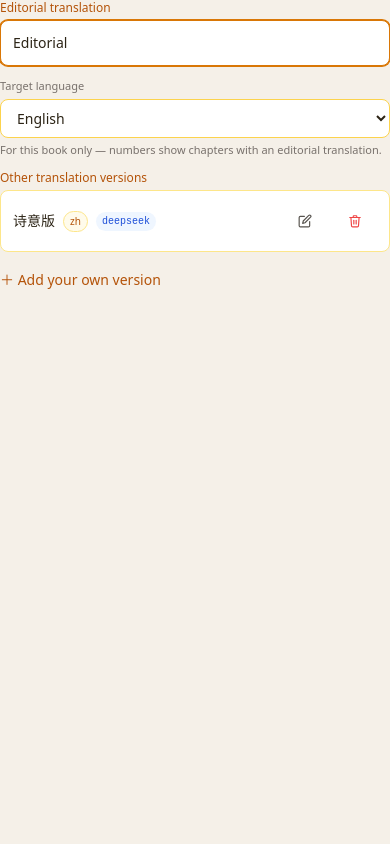
Scenario: duplicate-name error from the API is shown
Click the button "＋ Add your own version". click: [80, 280]
box: [0,258,161,302]
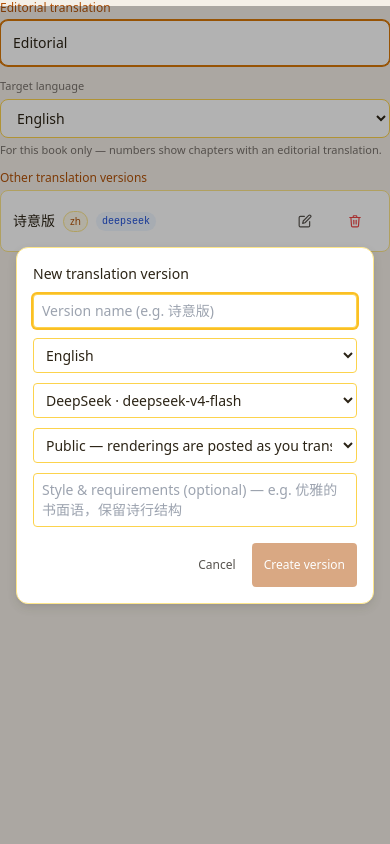
Type "诗意版" into the field labelled "Version name". click: [195, 310]
box: [33,294,357,328]
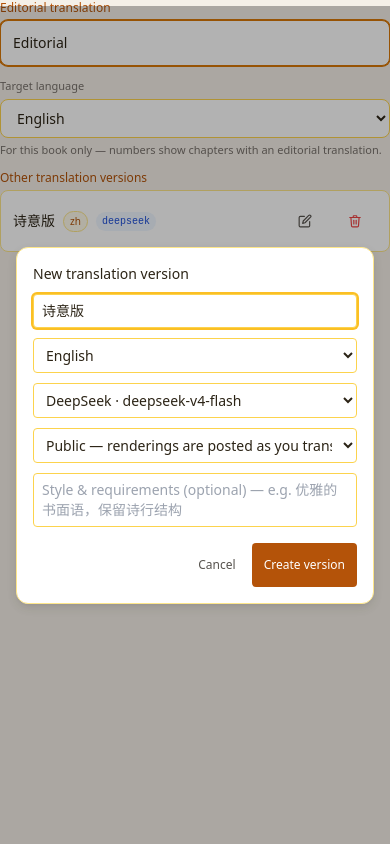
Click the button "Create version". click: [304, 564]
box: [252,542,357,586]
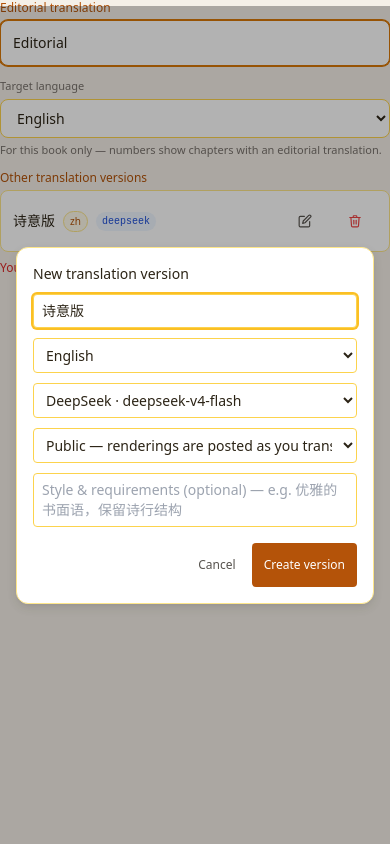
Expected: the message shows "already have a session", [0,259,320,276]
